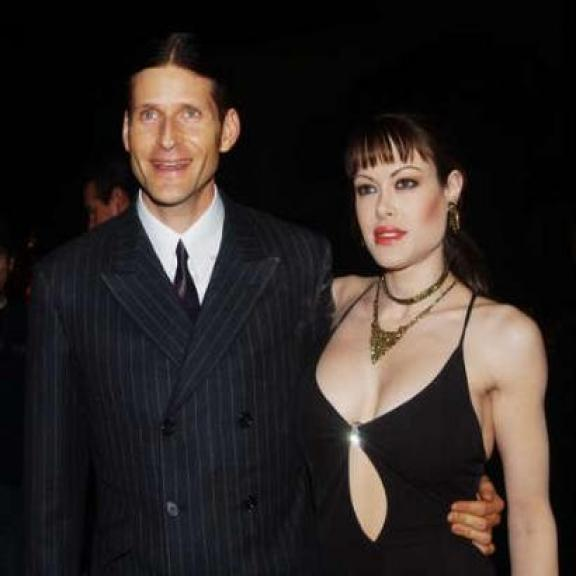face: (120, 64, 242, 206), (358, 151, 468, 270)
